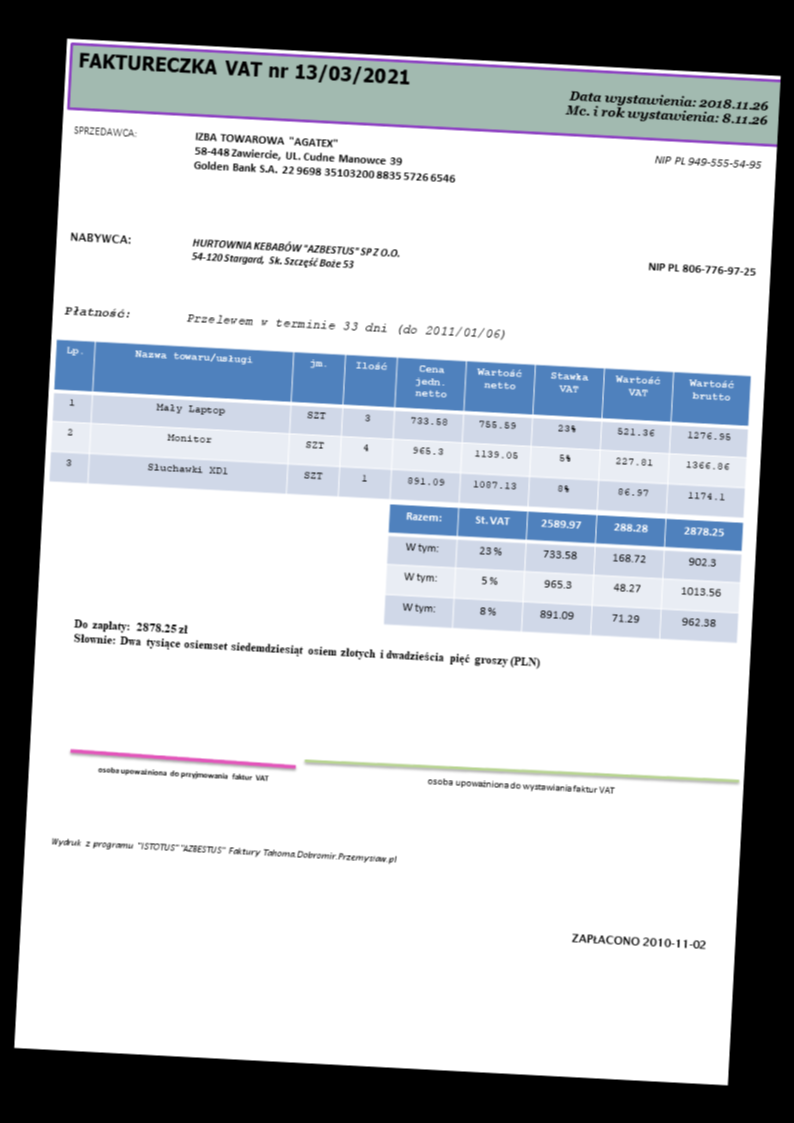Table: (47, 337, 752, 520), (382, 503, 743, 644)
TextBox: (70, 615, 543, 671), (190, 129, 459, 186), (75, 49, 411, 89), (49, 834, 399, 867), (185, 310, 508, 342), (561, 87, 769, 129), (189, 236, 402, 273), (424, 774, 615, 797), (95, 762, 269, 784), (568, 929, 706, 951), (645, 260, 756, 278), (652, 153, 762, 171), (62, 302, 132, 321), (71, 121, 138, 140), (67, 228, 131, 246)
